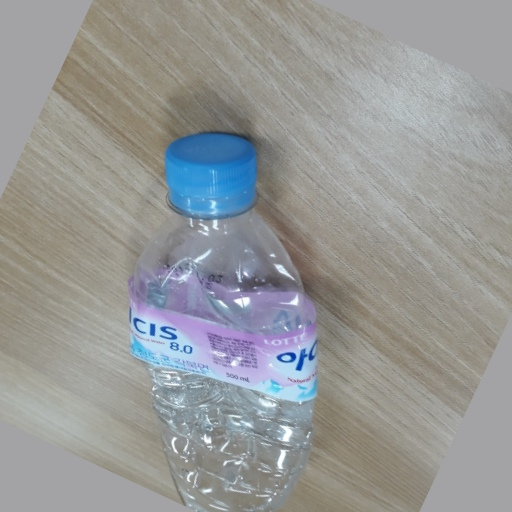Plastic_0: (128, 132, 324, 512)
